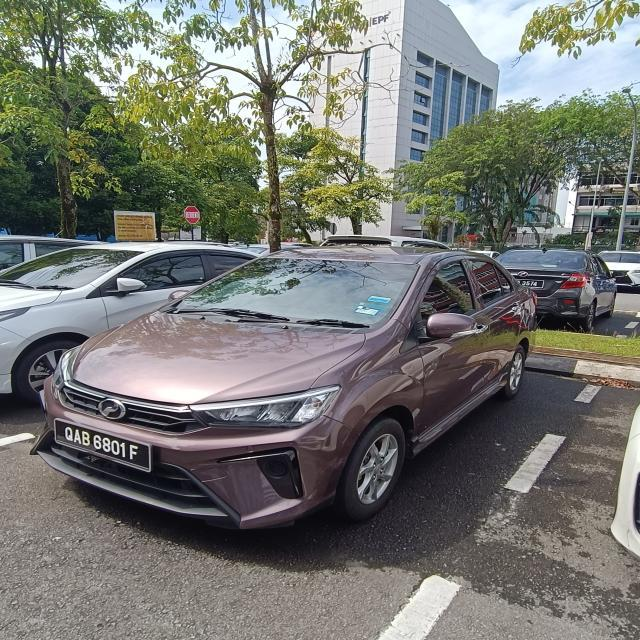PeroduaBezza: (29, 242, 539, 530)
